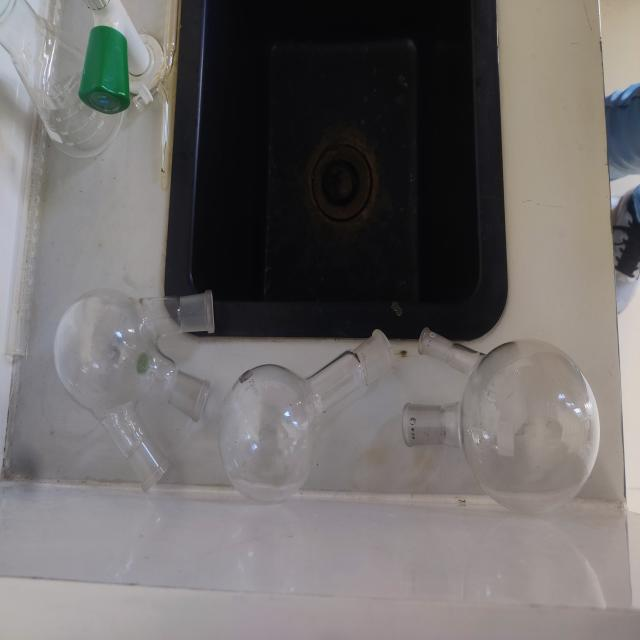Round_Bottom_Flask_Borosilicate_Glass_1_Neck: (210, 295, 399, 524)
Round_Bottom_Flask_Borosilicate_Glass_2_Neck: (388, 267, 620, 552)
Round_Bottom_Flask_Borosilicate_Glass_3_Neck: (28, 244, 236, 509)
